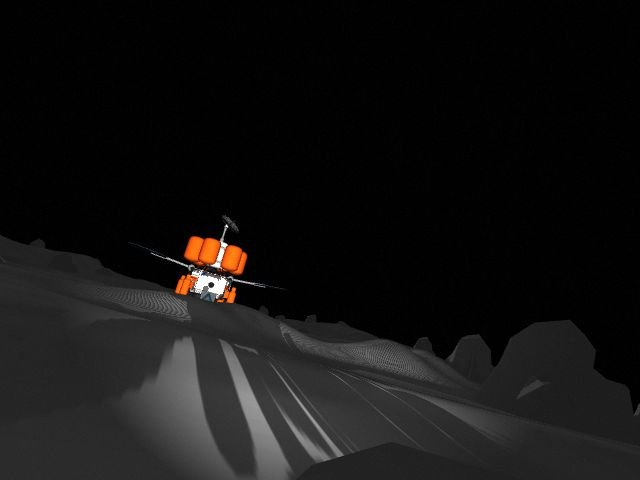homebase: (132, 214, 288, 314)
